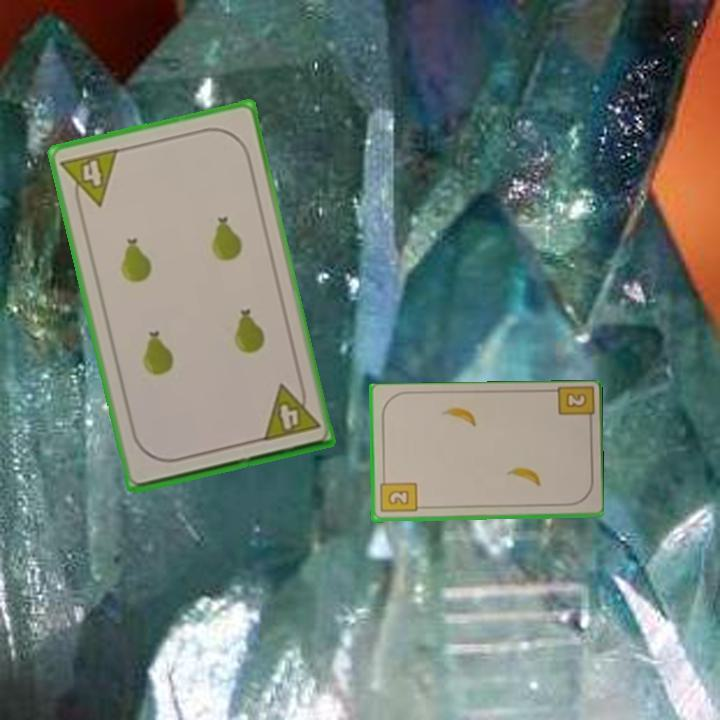2b: (552, 385, 594, 429), (377, 474, 419, 515)
4p: (57, 145, 121, 214), (258, 377, 322, 444)
